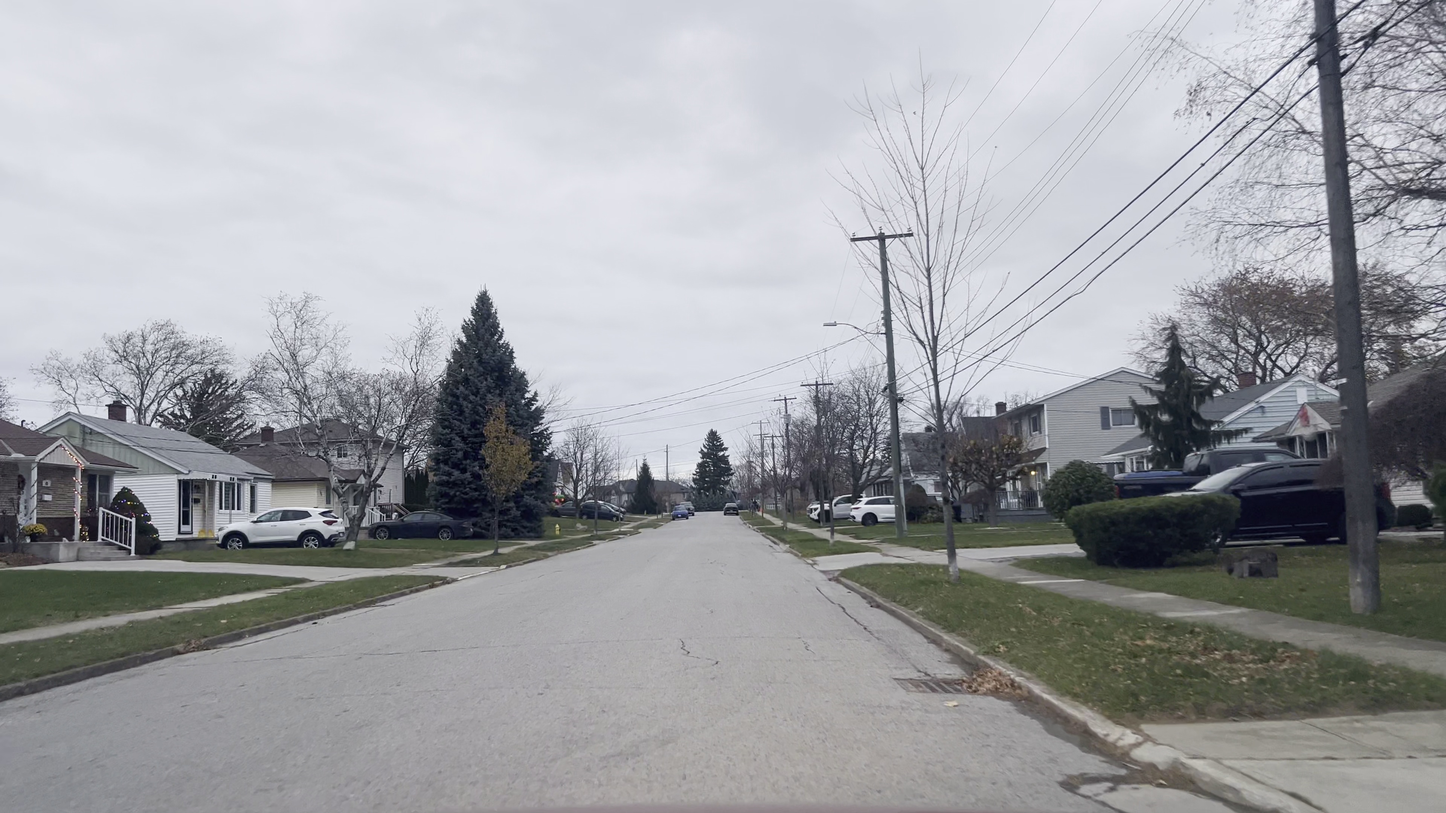flooding: (997, 705, 1219, 813)
